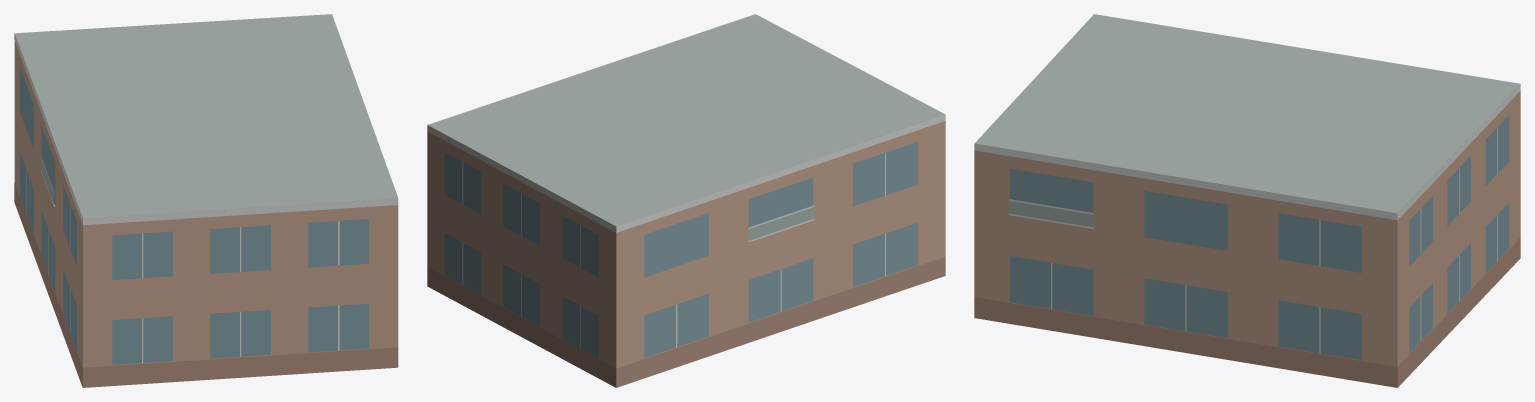
File: survey-upis-32665503.glb
3 renders of one model, left to right at view 1: azimuth 30°, elevation 25°; view 2: azimuth 150°, elevation 25°; view 3: azimuth 270°, elevation 25°, orthographic. The views are drawn at different scales.
Parts seen in each view (by area): view 1: survey-upis-32665503.tmp; view 2: survey-upis-32665503.tmp; view 3: survey-upis-32665503.tmp.
Part boxes in pixels (left/top/right/bottom): survey-upis-32665503.tmp: left=14, top=14, right=398, bottom=387; survey-upis-32665503.tmp: left=427, top=14, right=945, bottom=387; survey-upis-32665503.tmp: left=974, top=14, right=1520, bottom=387.
Size of the model in its own units: 14.95 by 6.1 by 17.31.
